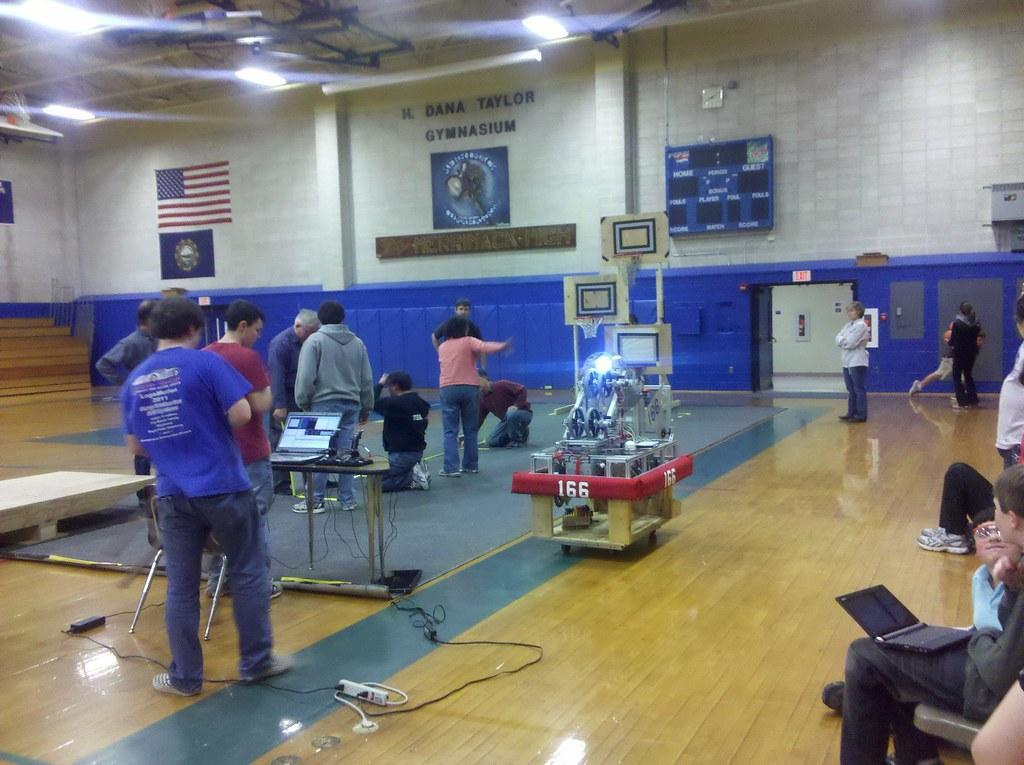robot: (505, 348, 702, 509)
